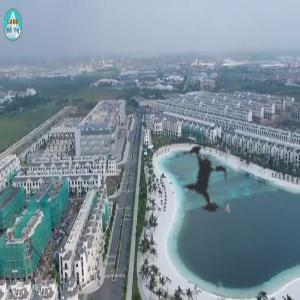drone: (146, 115, 269, 238)
